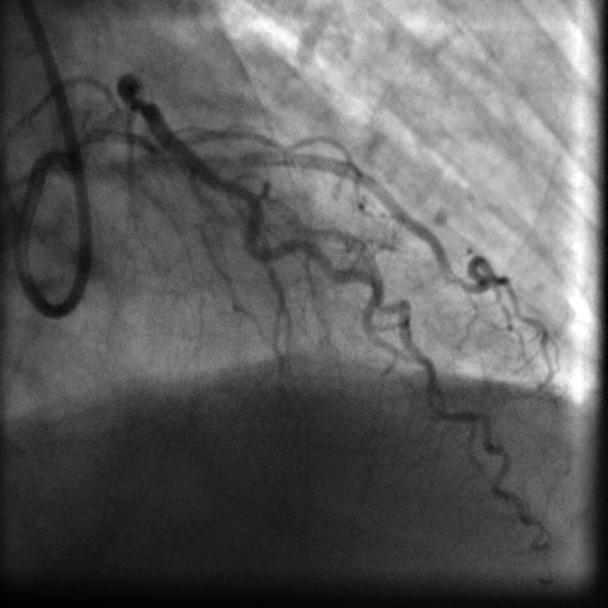Stenosis: (123, 86, 151, 123)
